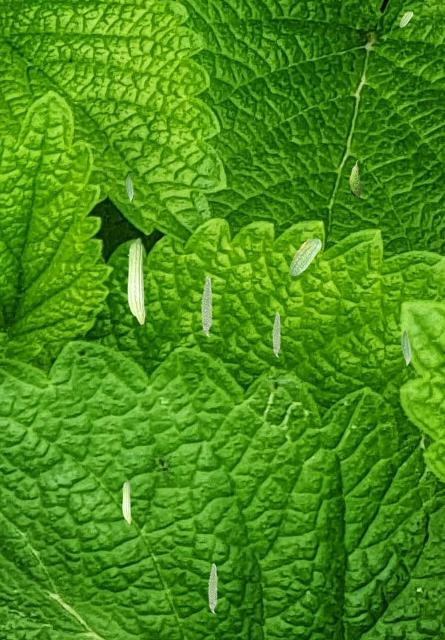ampalaya: (127, 238, 145, 325), (289, 238, 321, 276), (200, 275, 212, 337), (207, 562, 217, 614), (349, 159, 362, 197), (271, 311, 281, 357), (400, 329, 411, 366), (122, 479, 131, 524), (125, 173, 133, 202), (399, 11, 413, 27)
